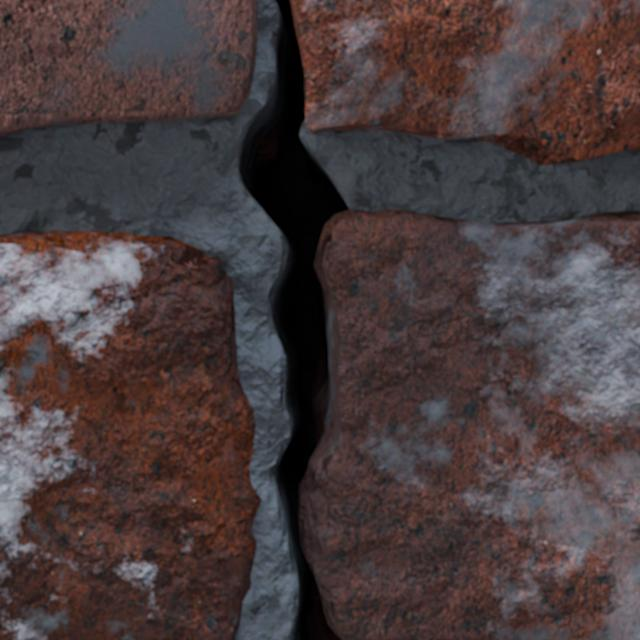crack: (229, 0, 639, 639), (0, 230, 261, 639), (0, 0, 257, 136)
